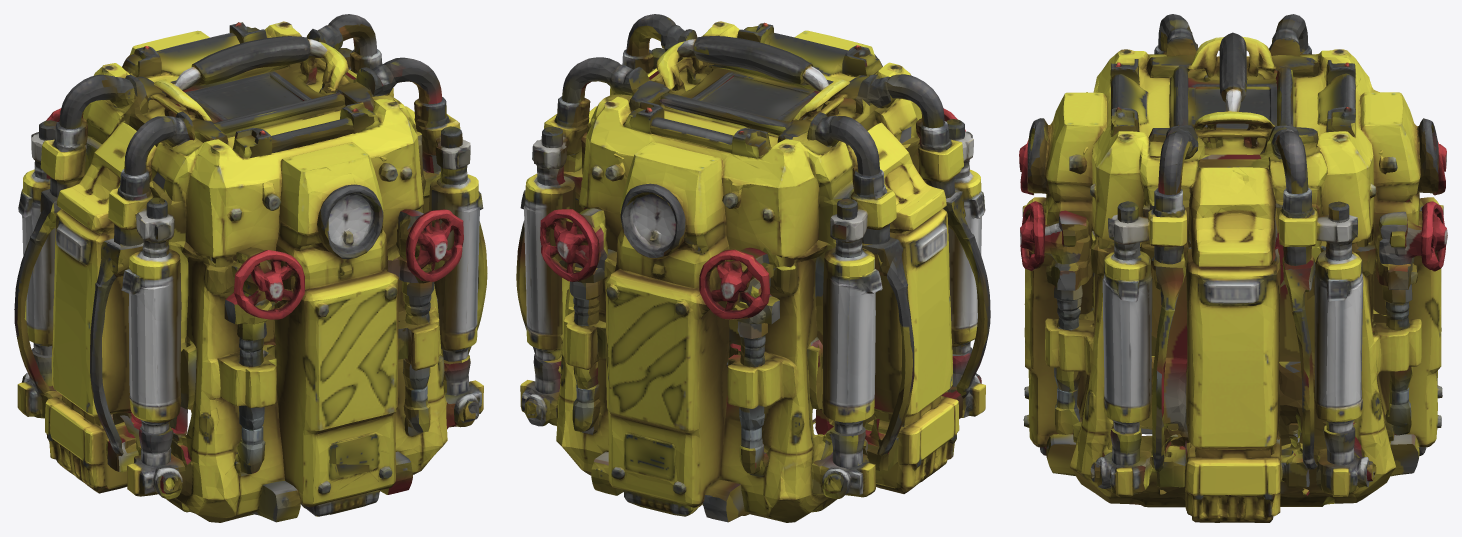
The model's file is mochila_5.glb.
3 views of the same model, side by side, from view 1: azimuth 30°, elevation 25°; view 2: azimuth 150°, elevation 25°; view 3: azimuth 270°, elevation 25° (orthographic).
Parts seen in each view (by area): view 1: geometry_0; view 2: geometry_0; view 3: geometry_0.
Part boxes in pixels (x1,y1,x2,y2): geometry_0: (14,14,487,522); geometry_0: (516,14,990,522); geometry_0: (1019,14,1447,522).
Bounding box in the file's own units: 0.9956 × 0.9932 × 0.9489.
1 material, 1 textured.
